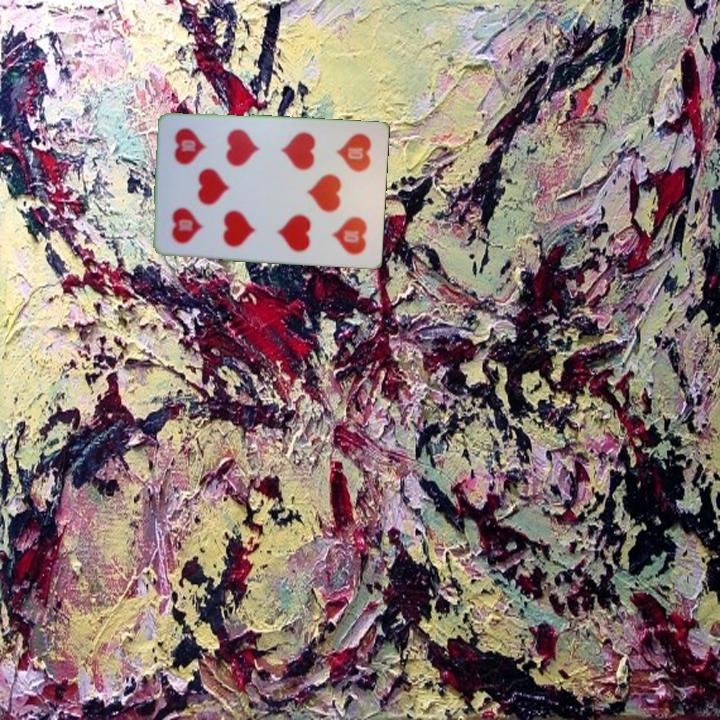h_10.png: (317, 128, 379, 198), (161, 180, 222, 250)
